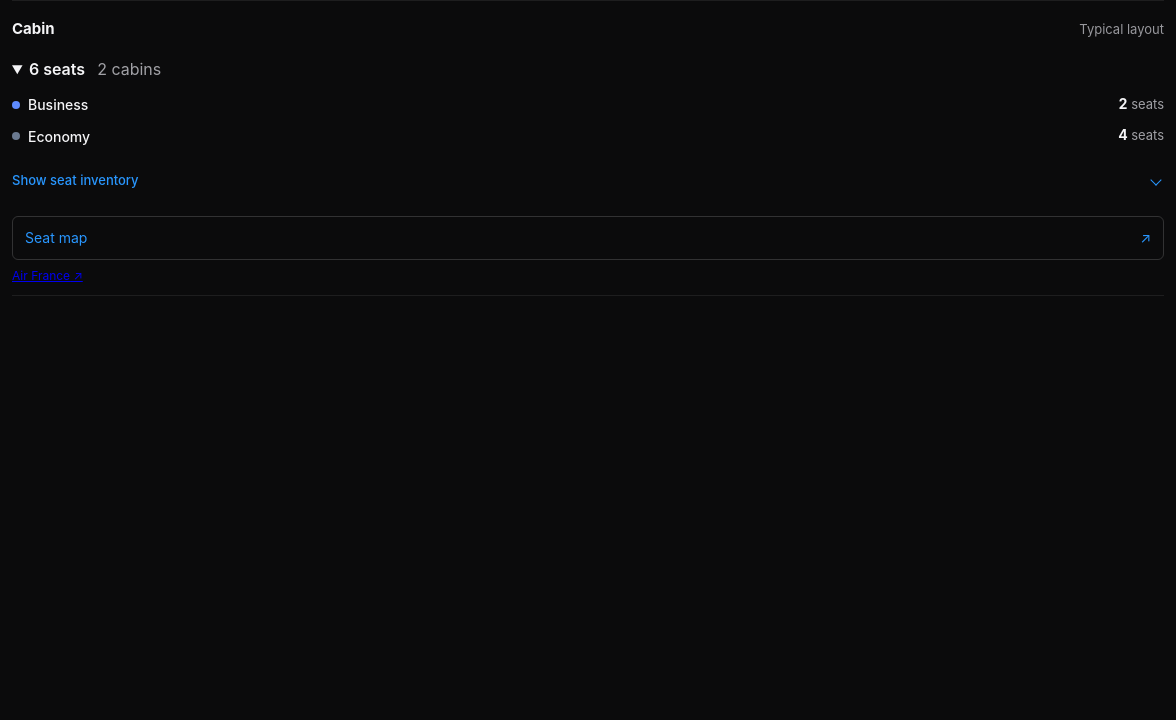
it: published cabin states › keeps sourced capacities and the optional inventory without explanatory paragraphs
Expected: the heading "Business" is shown, [12,96,88,113]
Expected: the text "Typical layout" is shown, [1079,20,1164,39]
Click the heading "Show seat inventory": (75, 180) [12,172,139,188]
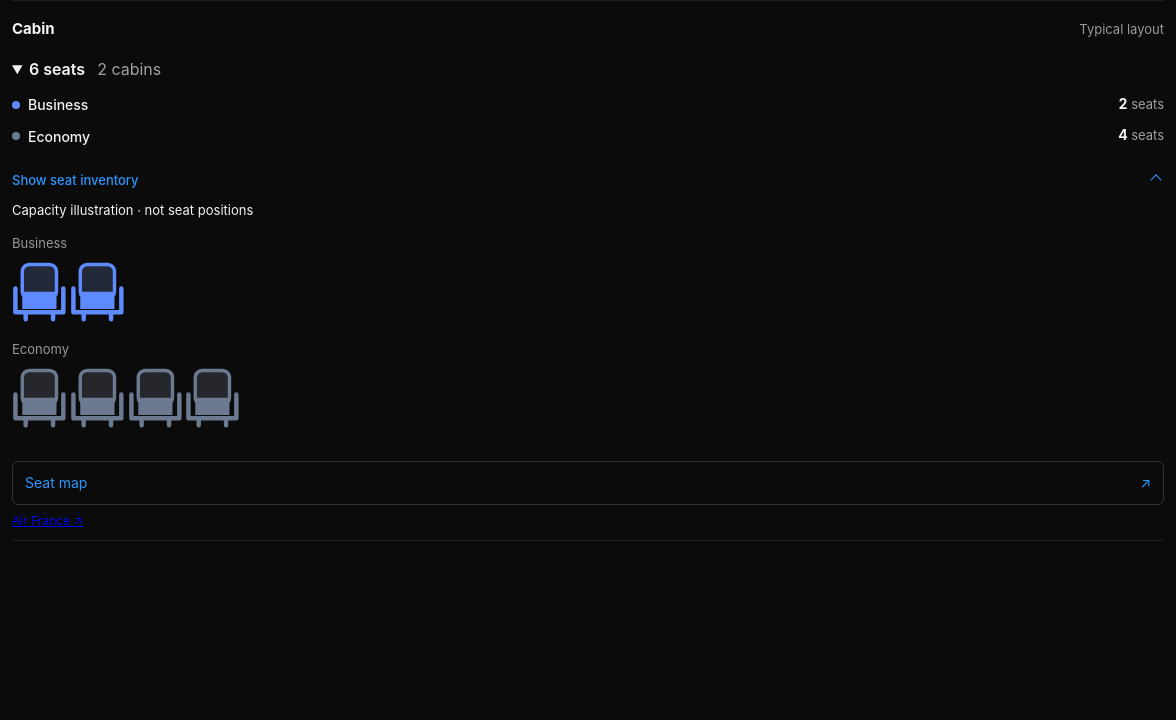
Expected: the number of icons with class "cabin-seat" is 6, [12,261,67,322]; [70,261,125,322]; [12,367,67,429]; [70,367,125,429]; [128,367,182,429]; [185,367,240,429]
